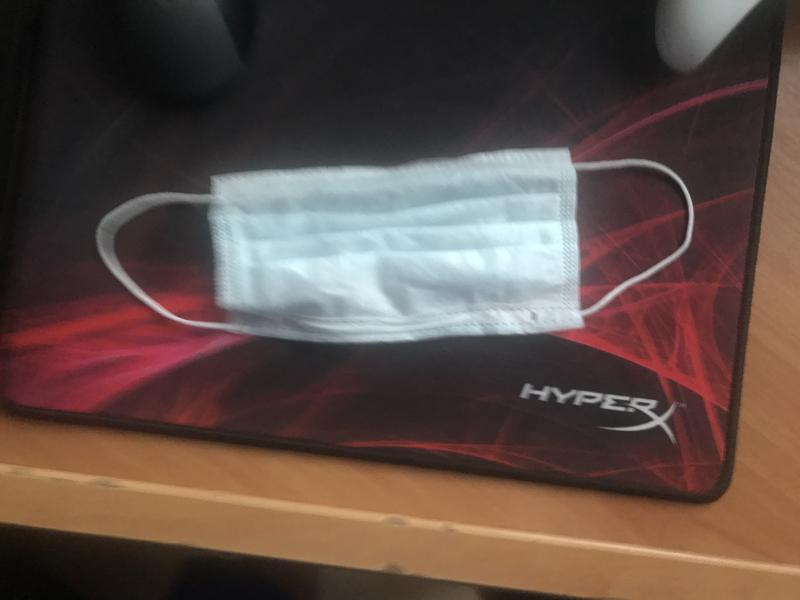medical_mask: (96, 150, 693, 339)
